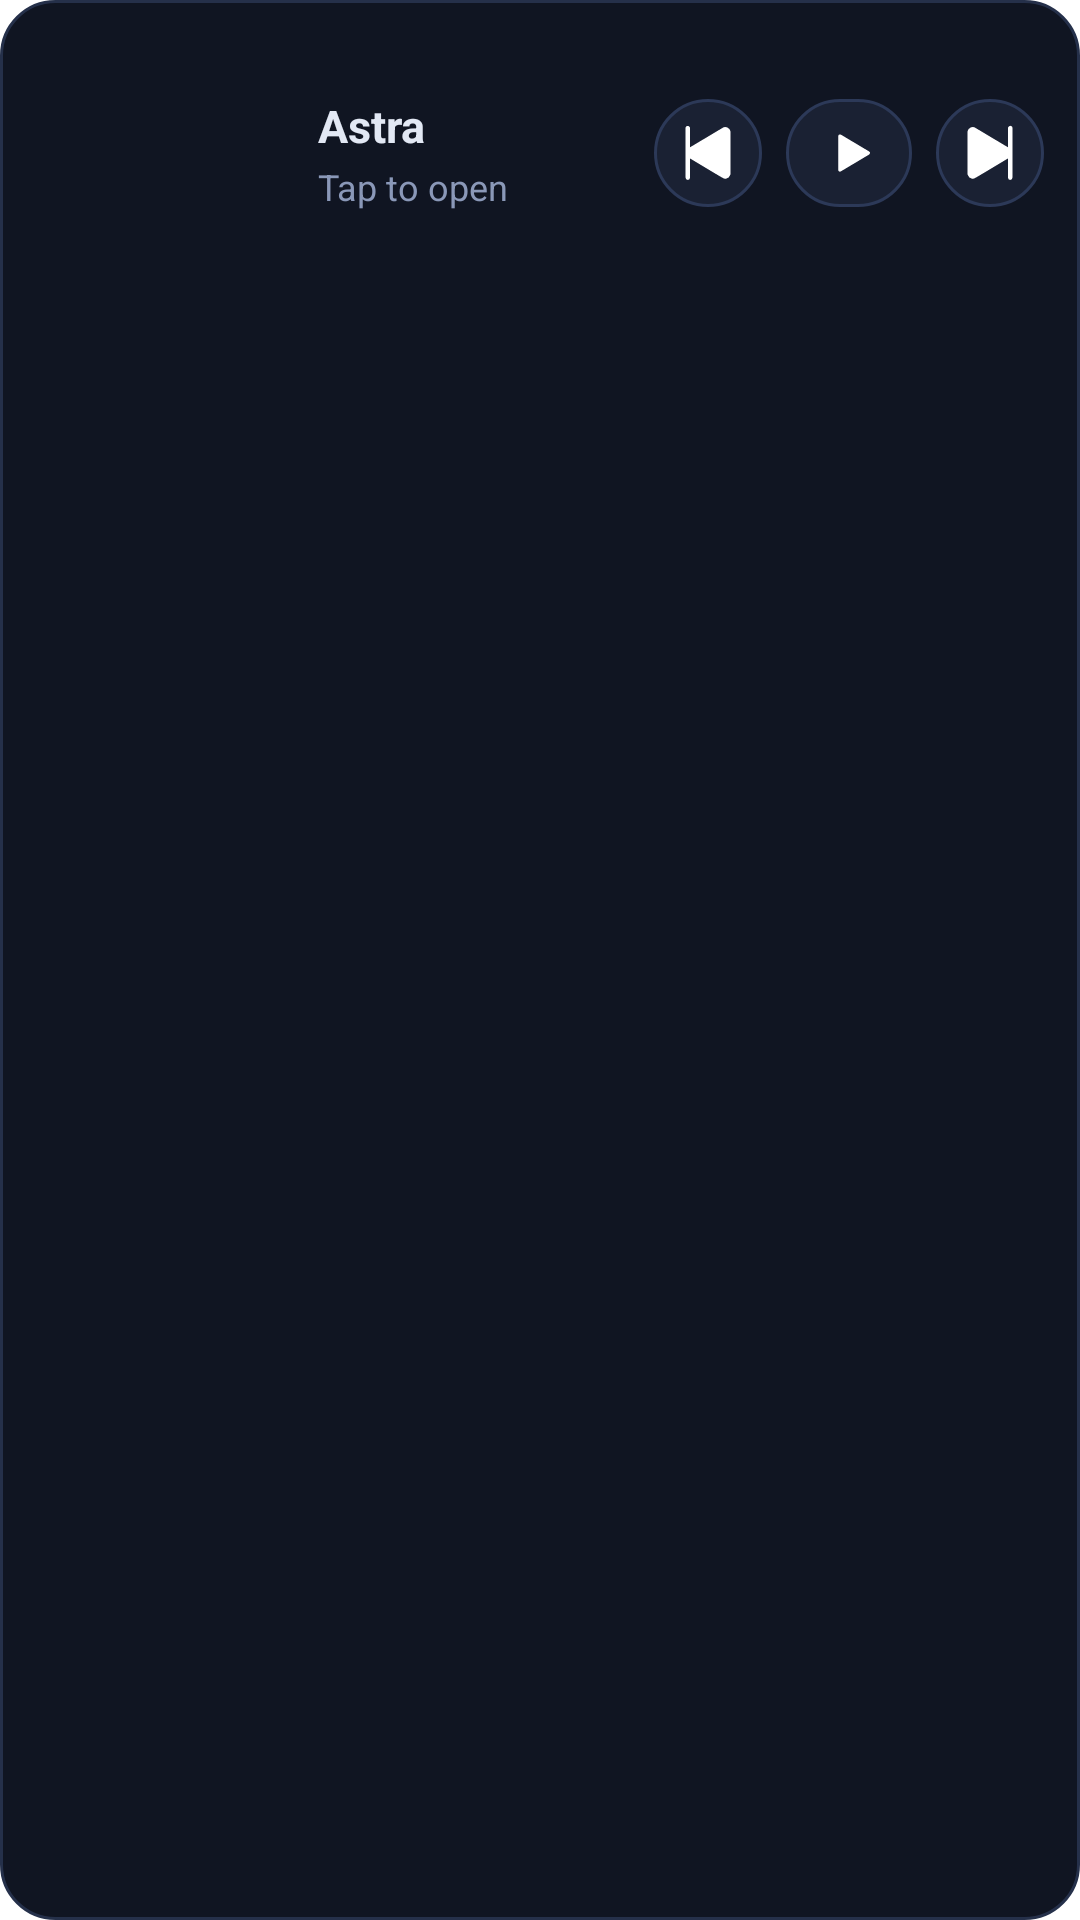

Screen size 1080w x 1920h. Icon name, then its center in pixels as (x,y):
Next: (990,153)
Play: (849,153)
Previous: (708,153)
